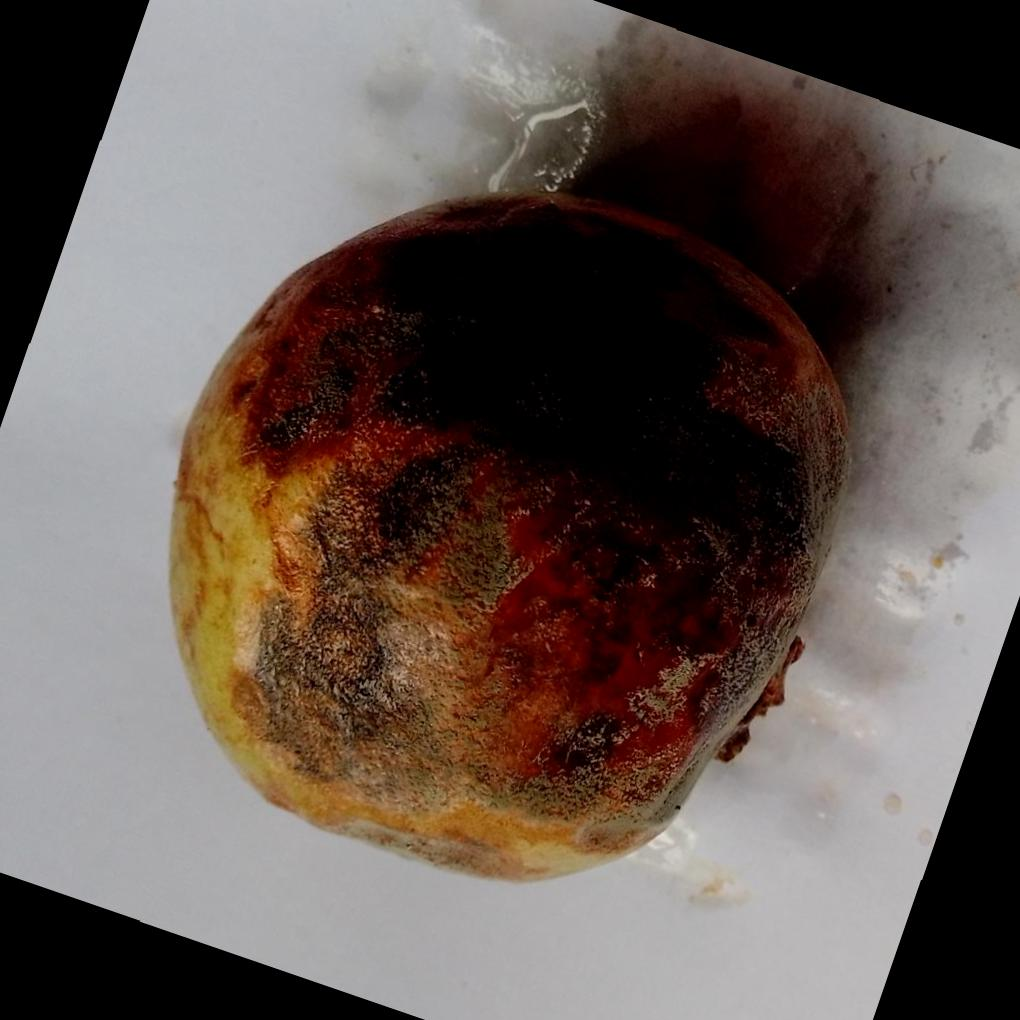FreshOrange: (166, 184, 854, 882)
